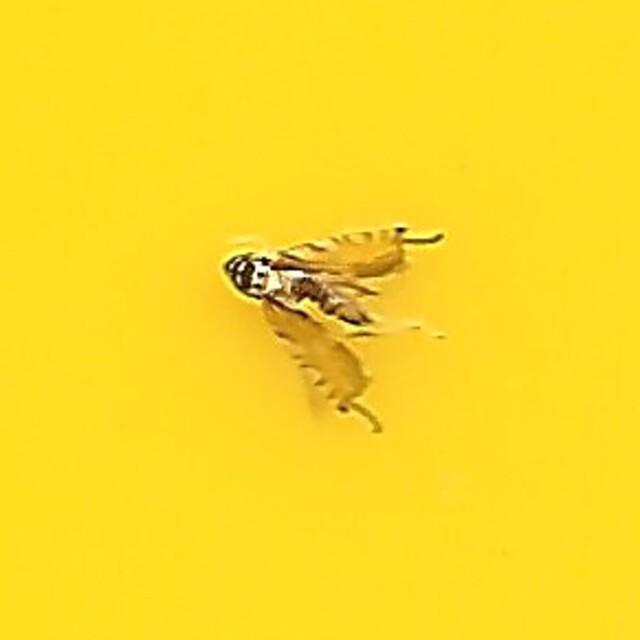Hemiptera: (220, 225, 420, 415)
